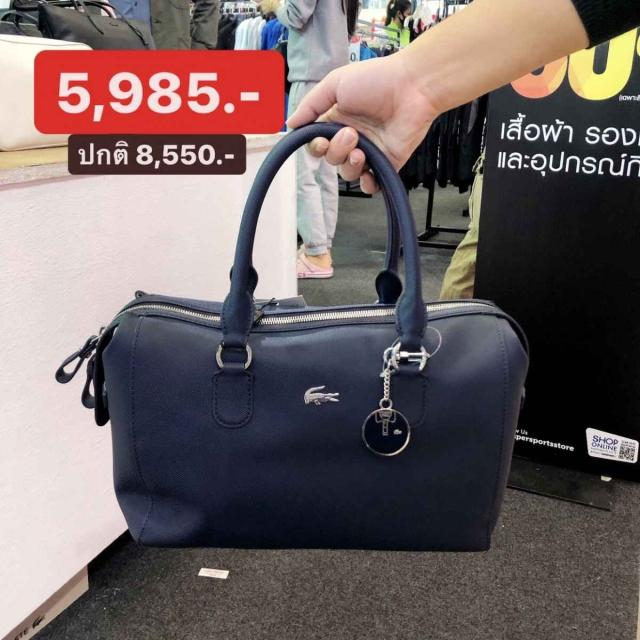Handbag: (46, 282, 539, 580)
